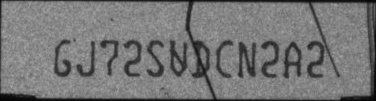2: (305, 38, 326, 78), (122, 39, 142, 77), (260, 40, 279, 78)
7: (99, 37, 117, 76)
A: (282, 40, 300, 79)
C: (216, 39, 233, 78)
D: (192, 40, 211, 78)
G: (53, 39, 71, 77)
J: (76, 39, 95, 78)
N: (237, 40, 256, 78)
S: (146, 40, 164, 78)
V: (169, 37, 188, 77)
